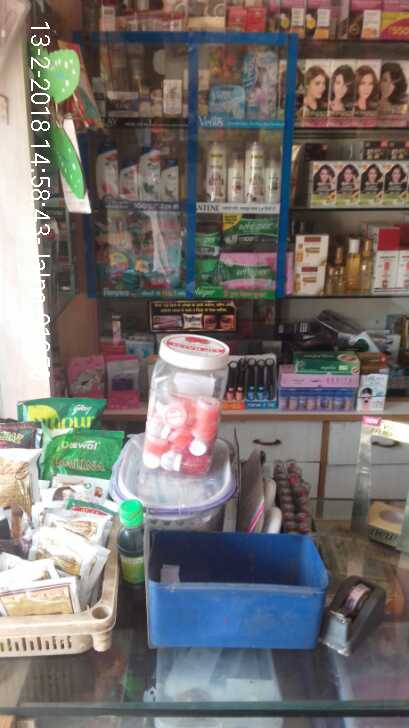venus: (243, 50, 279, 118), (209, 85, 243, 118)
